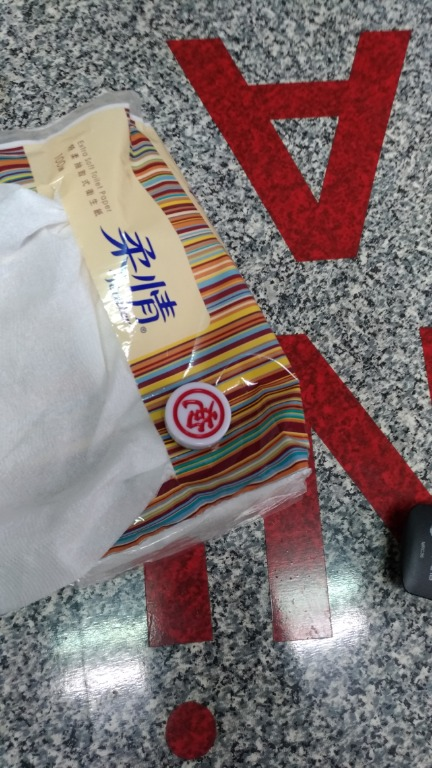r-cannon: (157, 377, 245, 456)
